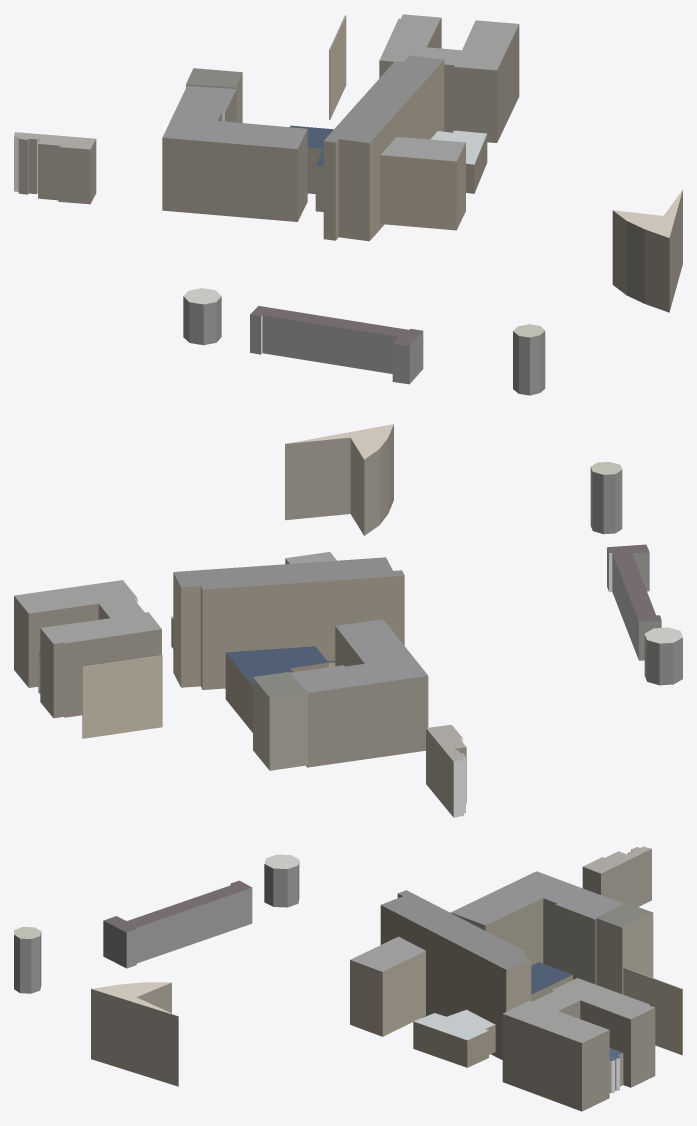
The picture shows the model from 3 angles, top to bottom: view 1: azimuth 30°, elevation 25°; view 2: azimuth 150°, elevation 25°; view 3: azimuth 270°, elevation 25°; orthographic projection. The views are drawn at different scales.
Visible parts, largest first — view 1: tuile; view 2: tuile; view 3: tuile.
Boxes of the visible parts, <box> form: tuile: <box>14,14,682,395</box>; tuile: <box>14,424,682,817</box>; tuile: <box>14,846,682,1111</box>.
Size of the model in its own units: 208 by 43.93 by 260.
